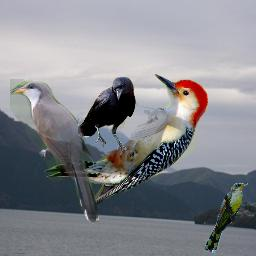Crow: (78, 77, 136, 156)
Cuckoo: (10, 79, 103, 225), (205, 183, 248, 253)
Woodpecker: (44, 74, 208, 206)
